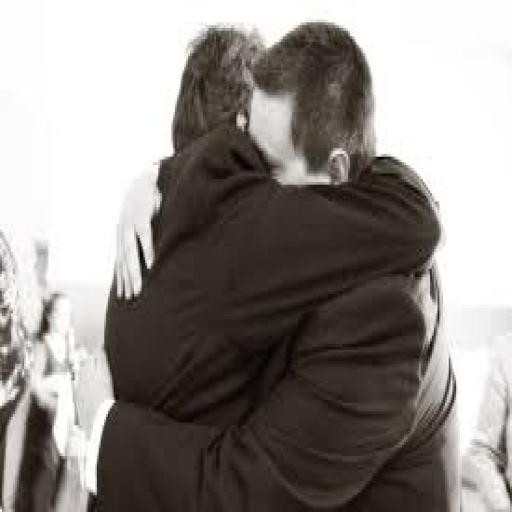hugging: (84, 17, 464, 509)
